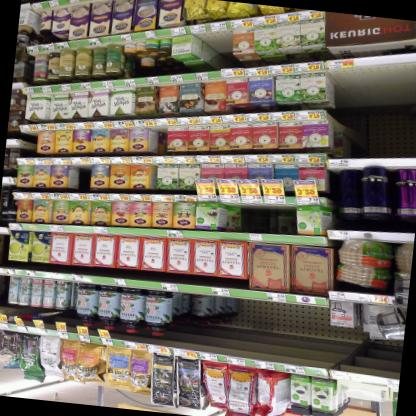empty_space: (327, 61, 416, 154), (291, 300, 328, 341), (193, 29, 234, 62), (261, 300, 291, 342), (236, 296, 263, 337), (237, 202, 266, 228), (215, 27, 232, 53), (72, 163, 89, 187), (21, 130, 36, 153), (268, 203, 292, 212)
